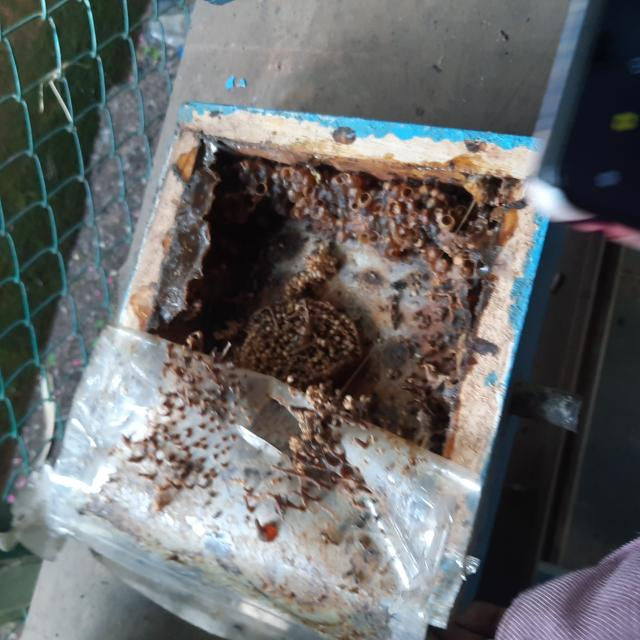honeybee: (209, 404, 223, 419), (228, 383, 237, 394), (244, 514, 252, 525), (212, 510, 220, 520), (292, 335, 299, 346), (359, 514, 366, 523), (375, 513, 382, 522), (209, 394, 220, 399), (359, 536, 364, 546), (280, 509, 286, 517), (242, 390, 248, 396), (276, 461, 281, 467), (266, 471, 271, 476), (288, 476, 293, 481), (369, 550, 373, 556)
